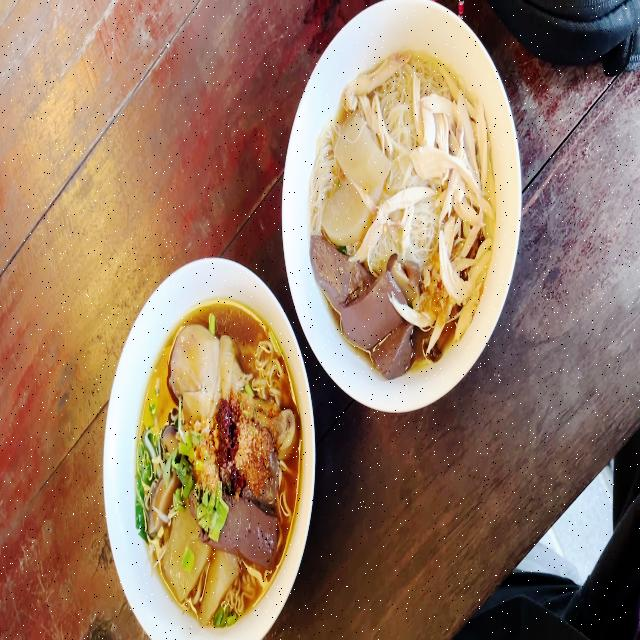boiled_chicken_blood_jelly: (310, 231, 370, 303), (219, 492, 277, 566), (359, 262, 399, 328), (378, 324, 417, 382)
chicken_drumstick: (168, 327, 298, 455)
chicken_shredded: (417, 72, 488, 307)
daikon_radish: (166, 502, 213, 598), (339, 113, 391, 195), (325, 178, 371, 237), (202, 553, 236, 620)
noodle: (133, 300, 297, 618), (320, 53, 492, 350)
